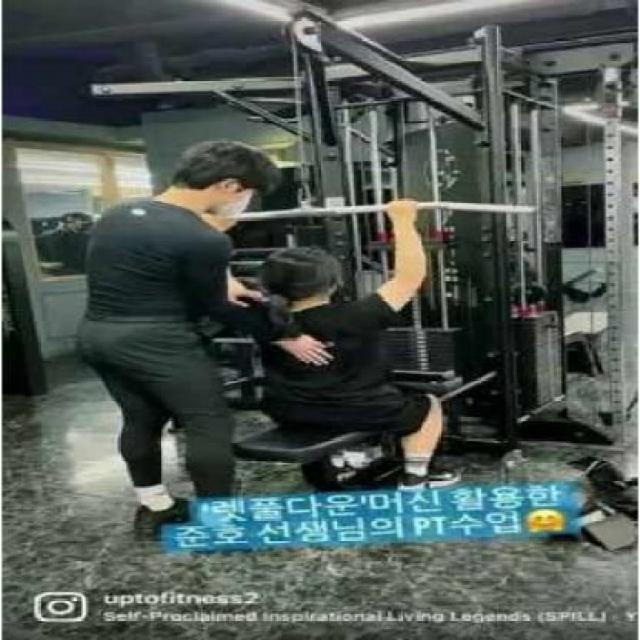Lat Pull Down: (66, 0, 640, 555)
